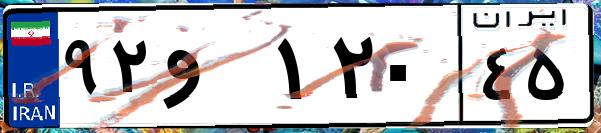0: (385, 28, 445, 110)
1: (270, 28, 330, 110)
2: (330, 28, 385, 110), (110, 28, 158, 98)
4: (475, 38, 525, 113)
5: (525, 38, 570, 115)
9: (57, 26, 110, 100)
و: (158, 20, 270, 120)
